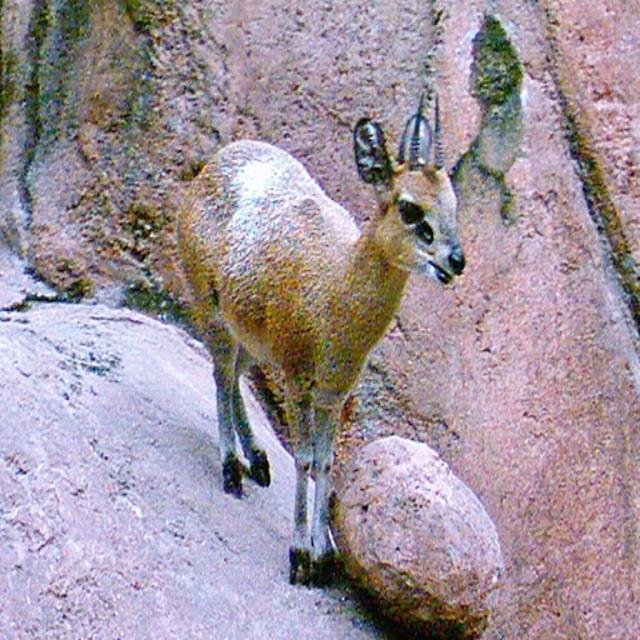Deer: (176, 90, 464, 584)
